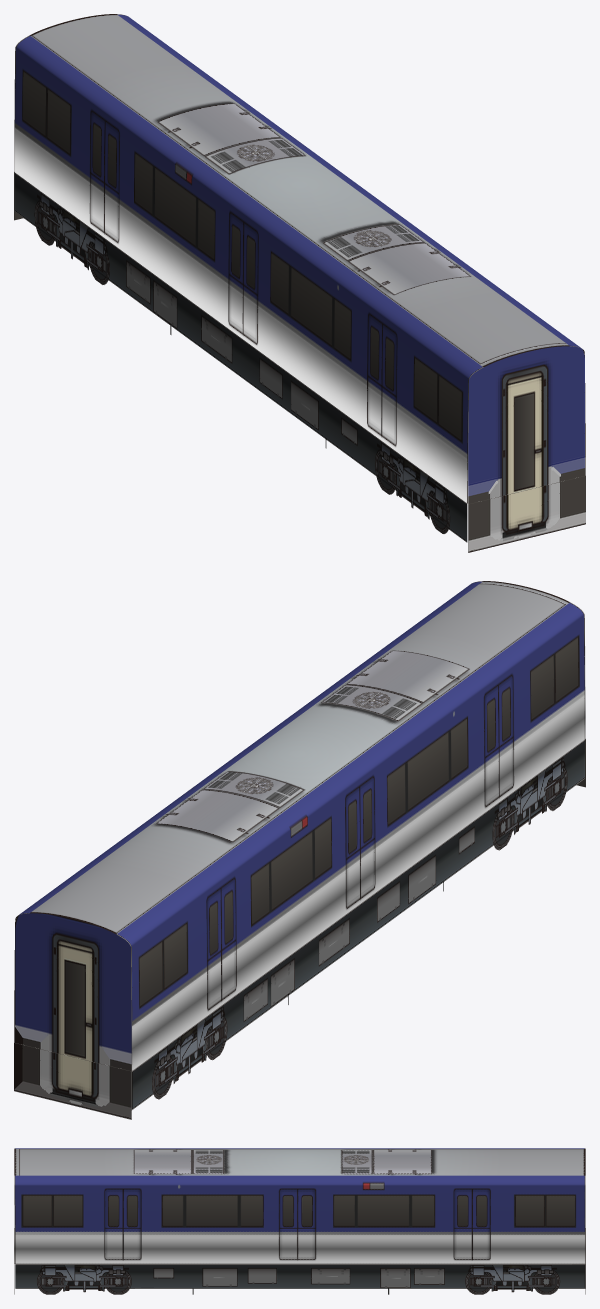
The model's file is car2.glb.
The picture shows the model from 3 angles, top to bottom: view 1: azimuth 30°, elevation 25°; view 2: azimuth 150°, elevation 25°; view 3: azimuth 270°, elevation 25°; orthographic projection. The views are drawn at different scales.
Visible parts, largest first — view 1: keihan-3000-car2; view 2: keihan-3000-car2; view 3: keihan-3000-car2.
Part boxes in pixels (x1,y1,x2,y2): keihan-3000-car2: (14, 14, 585, 552); keihan-3000-car2: (14, 581, 585, 1119); keihan-3000-car2: (14, 1148, 585, 1294).
Bounding box in the file's own units: 2.72 × 4.12 × 18.23.
9 materials, 8 textured.
